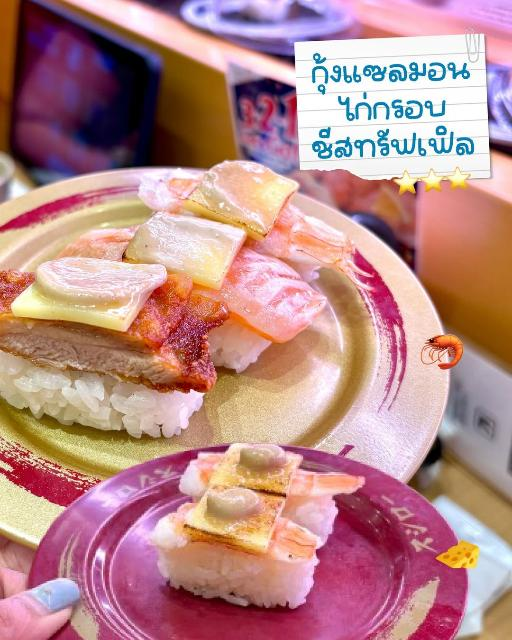jangold: (19, 173, 430, 441)
janred: (73, 447, 453, 640)
janwhite: (168, 9, 376, 54)
